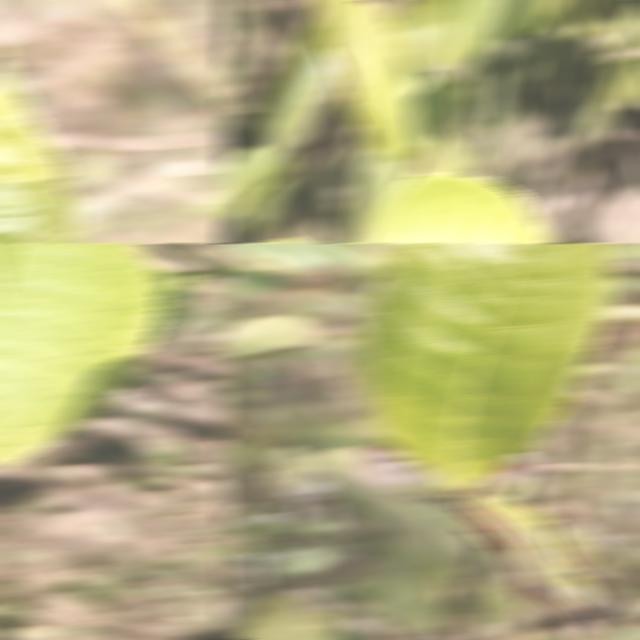Leaf: (360, 243, 612, 490), (0, 243, 166, 469), (347, 78, 461, 243), (470, 494, 606, 625), (311, 0, 421, 160), (356, 170, 557, 243), (262, 20, 341, 161), (352, 492, 479, 564), (368, 539, 455, 635), (306, 445, 452, 501), (569, 61, 631, 151), (387, 0, 462, 70), (218, 243, 376, 276), (234, 593, 344, 640), (218, 315, 325, 362), (218, 146, 281, 222), (450, 0, 510, 79), (146, 269, 202, 342), (486, 0, 568, 39), (533, 22, 571, 100), (428, 133, 470, 174), (610, 0, 640, 51), (614, 59, 640, 112), (579, 0, 619, 26)
